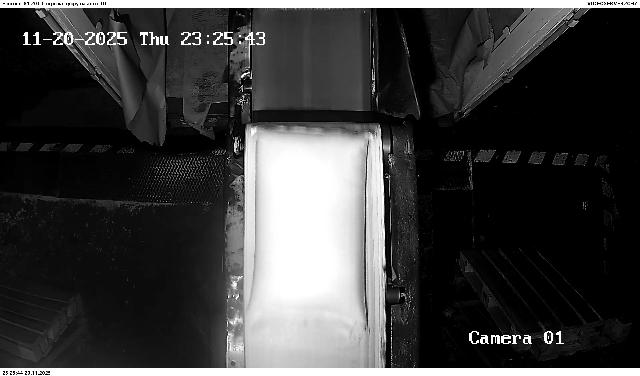bag: (249, 126, 371, 340)
